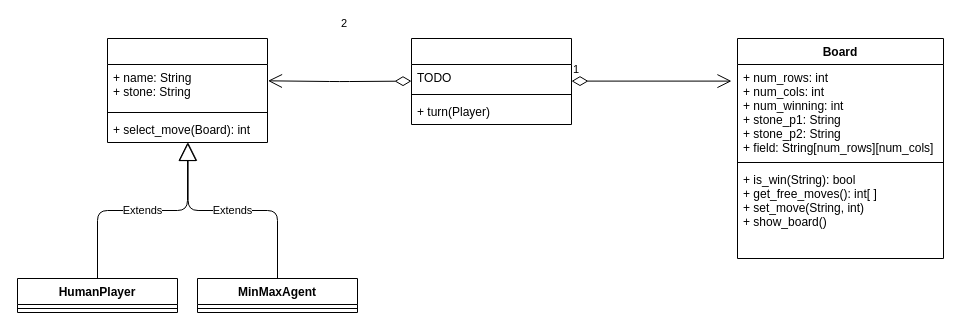
Image size: 961x331. Some labels were removed from this diagram. The shapes that lost their labels are listed below. From the top down, each one's box as (x1, y1, x2, y2) in pixels, then its label:
(106, 38, 268, 142): Player
(410, 38, 572, 124): Game
